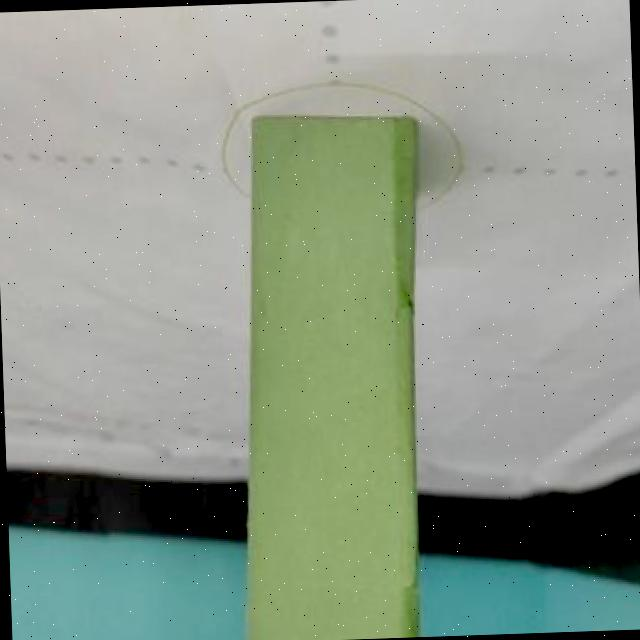greenbox: (225, 115, 431, 640)
